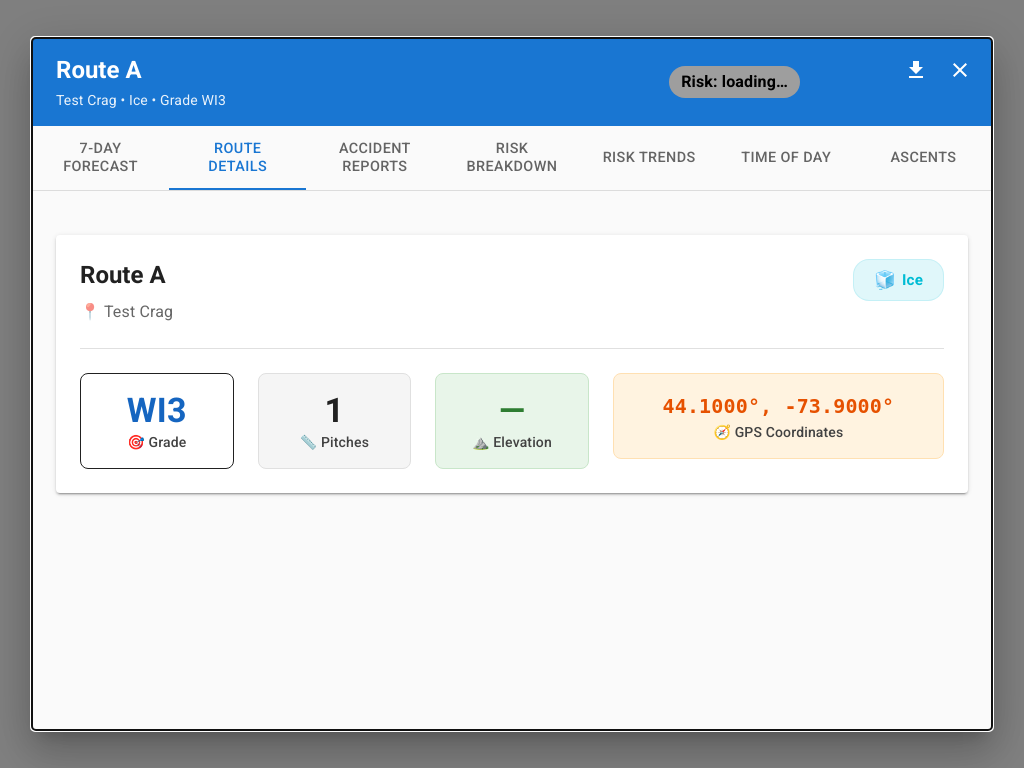
Test: RouteAnalyticsModal accident and ascent figures › a route without coordinates says nearby accidents are unavailable, not that there are none
Click the tab "Accident Reports": (375, 158) [306,126,443,190]
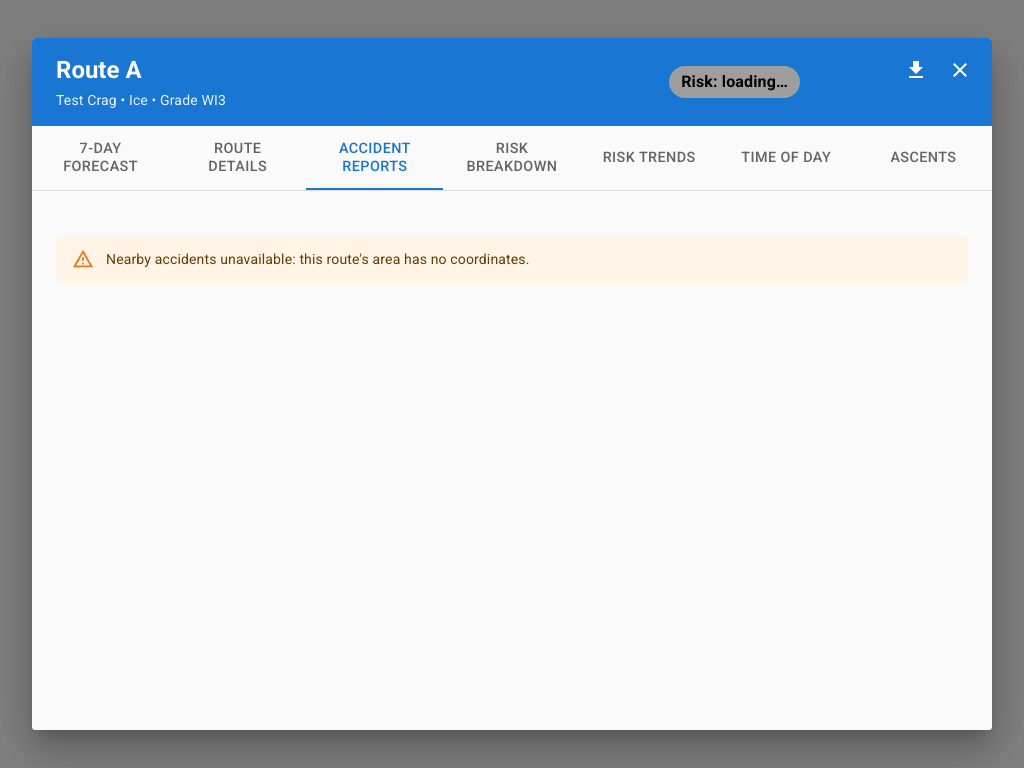
Result: the text "Nearby accidents unavailable: this route's area has no coordinates." is shown at [106,251,530,267]
